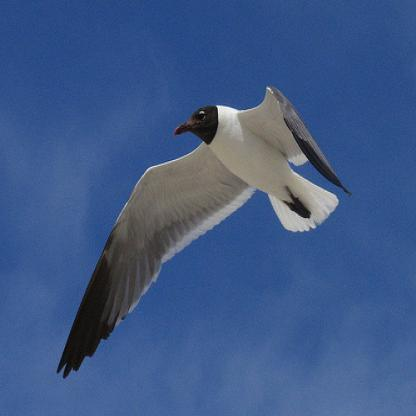bird: (56, 83, 352, 379)
